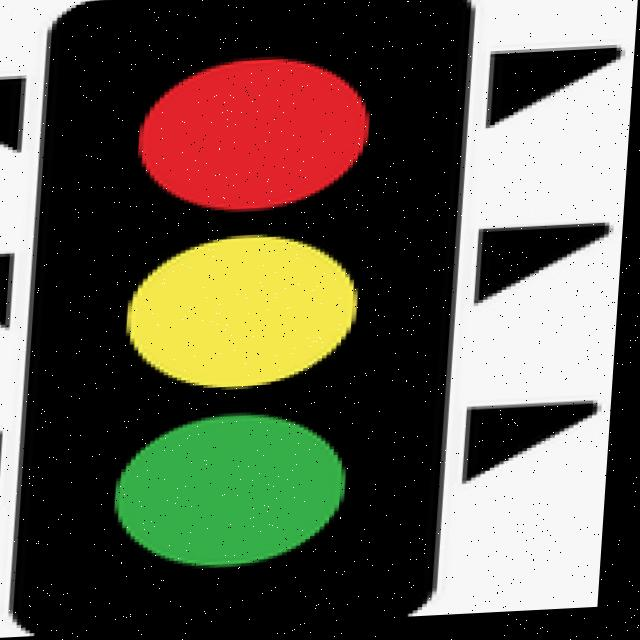light_traffic: (0, 0, 563, 640)
